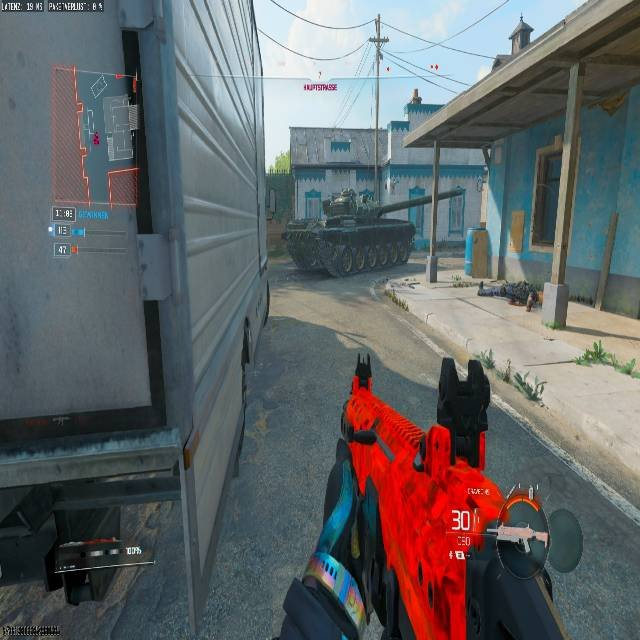player: (525, 291, 539, 312)
